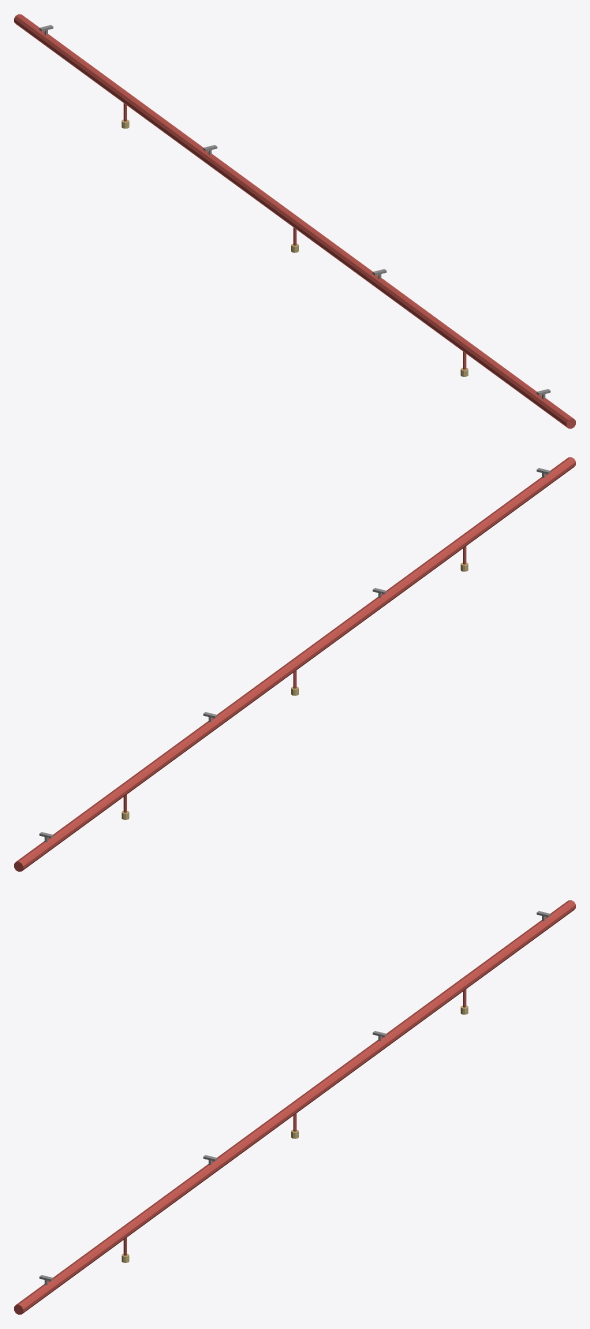
File: dm_sprinklerpipe.glb
3 renders of one model, top to bottom at view 1: azimuth 30°, elevation 25°; view 2: azimuth 150°, elevation 25°; view 3: azimuth 330°, elevation 25°, orthographic.
Visible parts, largest first — view 1: dm_sprinklerpipe; view 2: dm_sprinklerpipe; view 3: dm_sprinklerpipe.
Part boxes in pixels (x1,y1,x2,y2): dm_sprinklerpipe: (14,14,575,428); dm_sprinklerpipe: (14,457,575,871); dm_sprinklerpipe: (14,900,575,1314).
Bounding box in the file's own units: 0.12 × 0.41 × 9.78.
